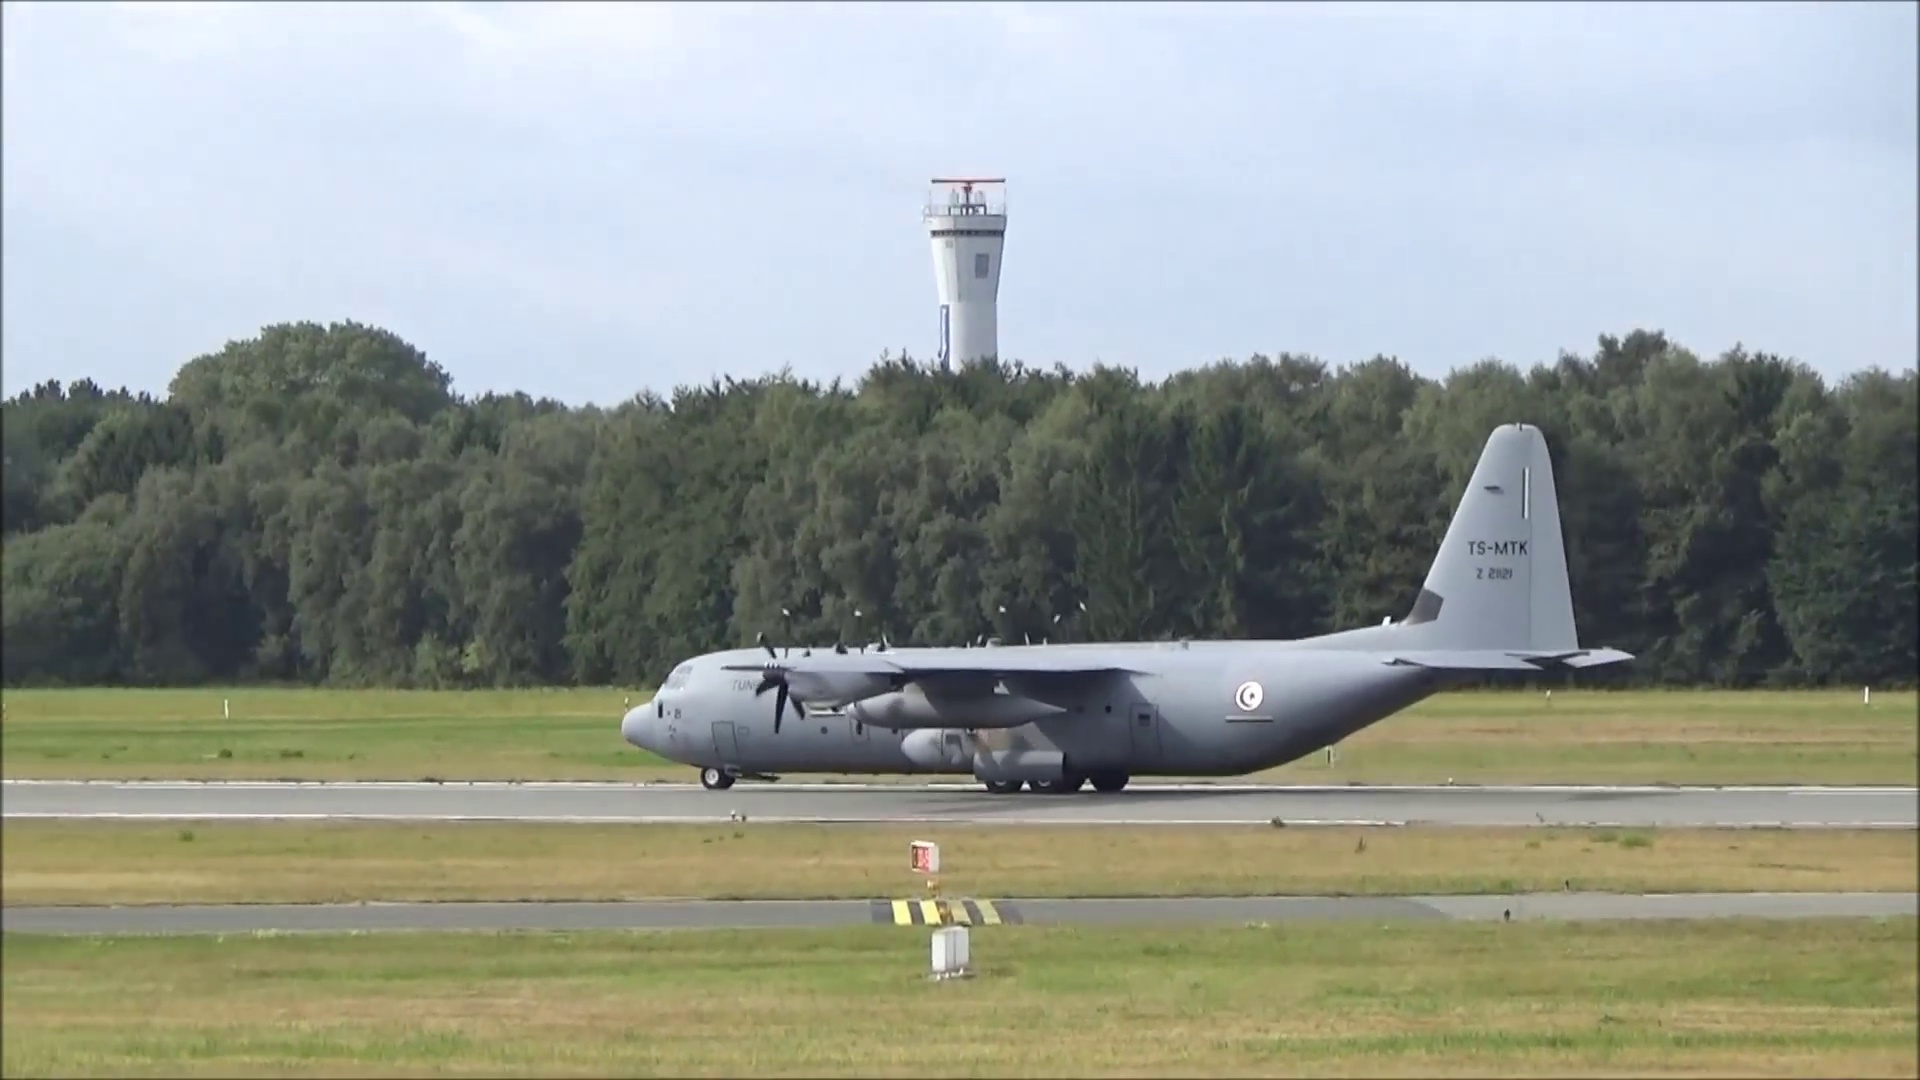Airplane: (621, 419, 1631, 795)
